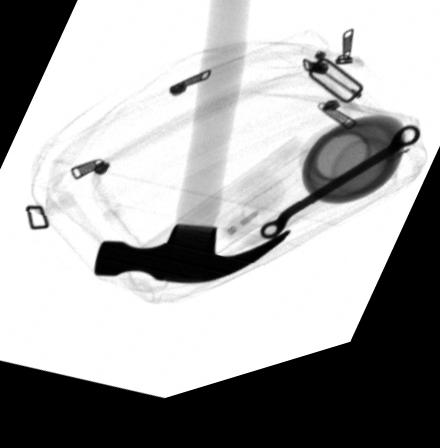Hammer: (95, 0, 289, 297)
Wrench: (260, 152, 420, 256)
